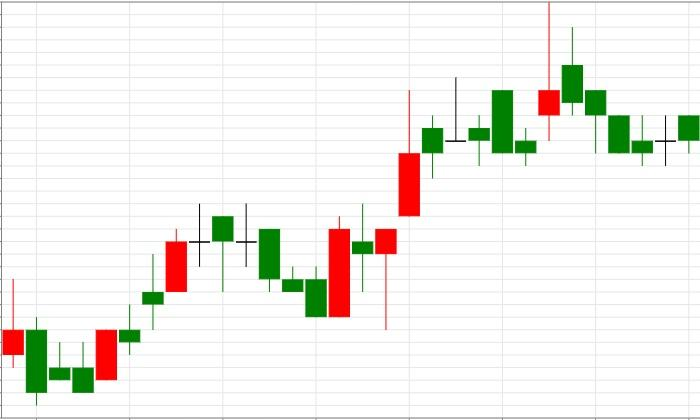bullish_engulfing_rise: (212, 202, 351, 318)
